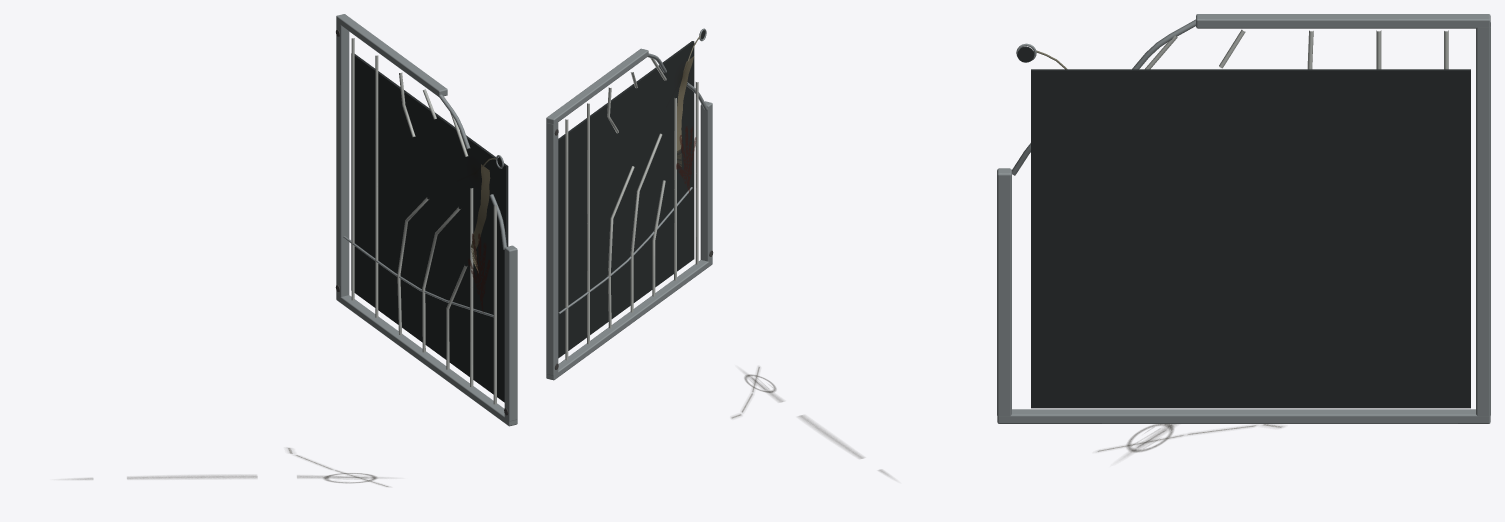
The model's file is struggle.glb.
3 renders of one model, left to right at view 1: azimuth 30°, elevation 25°; view 2: azimuth 150°, elevation 25°; view 3: azimuth 270°, elevation 25°, orthographic. The views are drawn at different scales.
Visible parts, largest first — view 1: inward-buckled-maintenance-cover, flush-directional-drag-evidence; view 2: inward-buckled-maintenance-cover, flush-directional-drag-evidence; view 3: inward-buckled-maintenance-cover, flush-directional-drag-evidence.
Part boxes in pixels (box(x1,y1,x2,y2)): inward-buckled-maintenance-cover: box(335, 14, 517, 426); flush-directional-drag-evidence: box(72, 448, 388, 486); inward-buckled-maintenance-cover: box(546, 28, 713, 380); flush-directional-drag-evidence: box(731, 367, 890, 476); inward-buckled-maintenance-cover: box(997, 14, 1490, 423); flush-directional-drag-evidence: box(1097, 424, 1283, 455).
Bounding box in the file's own units: 1.83 × 1.55 × 1.39.
7 materials, 2 textured.
